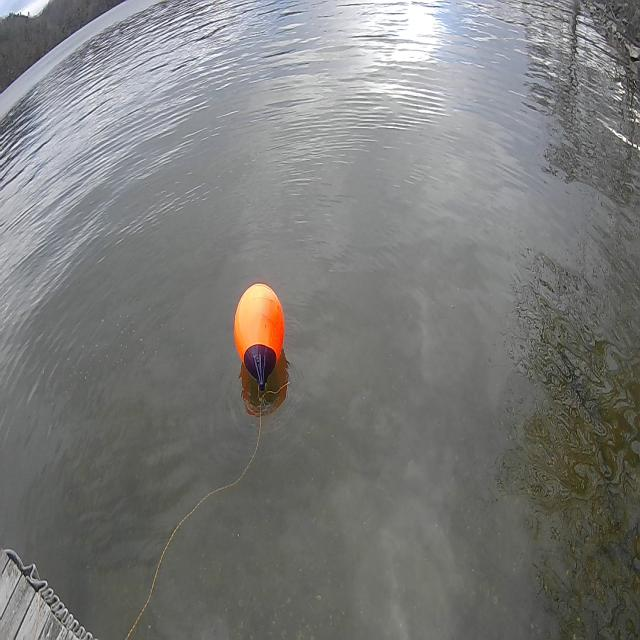Buoy: (233, 282, 285, 369)
